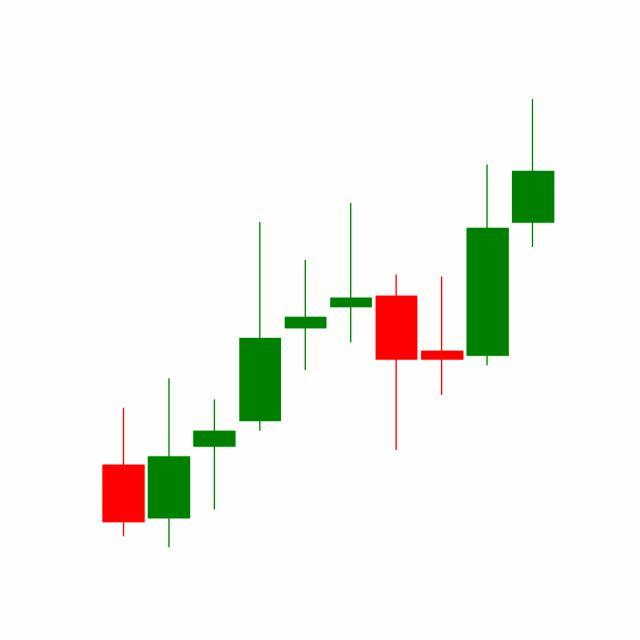Hikkake Pattern: (283, 162, 512, 454)
